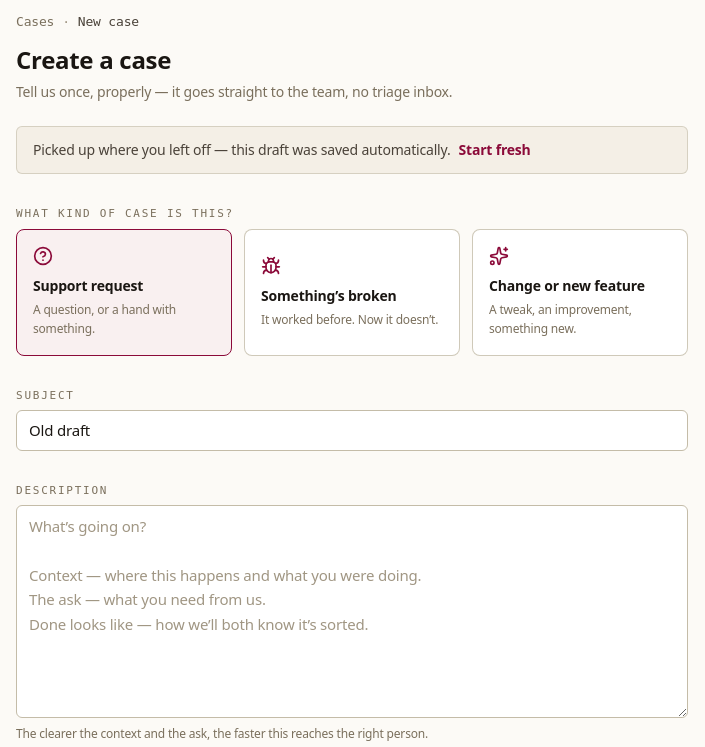
Test: CaseCreatePage › start fresh clears the restored draft
The image size is (705, 747).
Expected: the field labelled "Subject" holds "Old draft", [16, 410, 688, 451]
Click the button "Start fresh" at (495,150), box [458, 138, 531, 161]
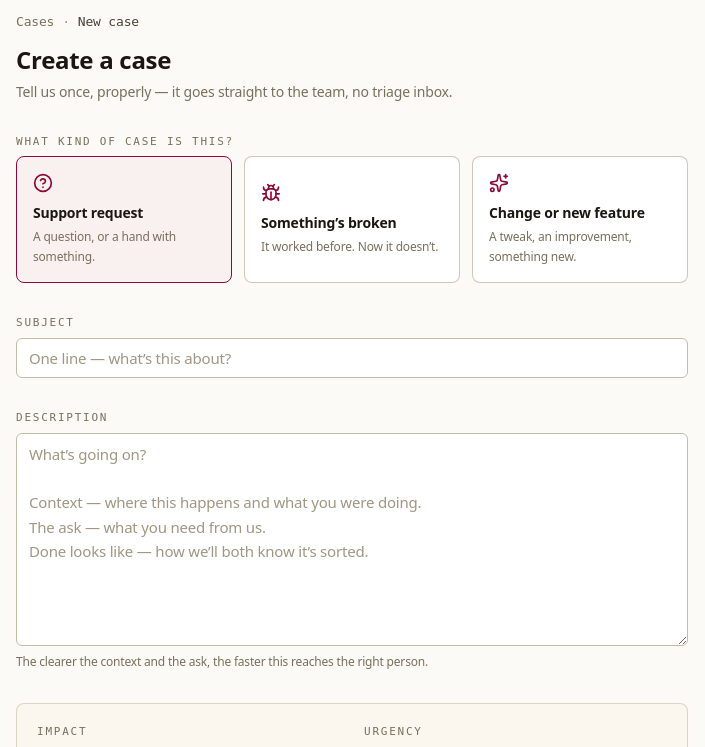
Expected: the field labelled "Subject" is empty, [16, 338, 688, 378]
Expected: the text "Picked up where you left off" is gone
